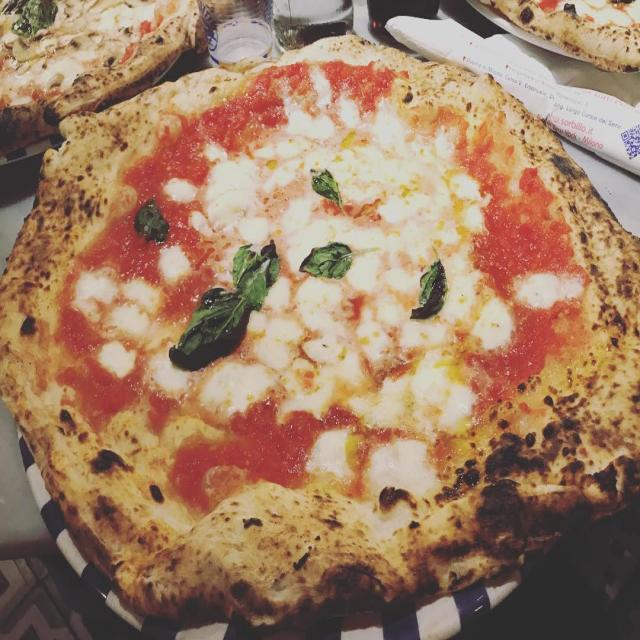basil: (169, 240, 279, 370), (299, 242, 376, 278), (412, 258, 448, 318), (4, 0, 57, 38), (134, 197, 168, 243), (311, 169, 344, 211)
pizza: (0, 37, 640, 625), (0, 0, 204, 152), (481, 0, 640, 72)
